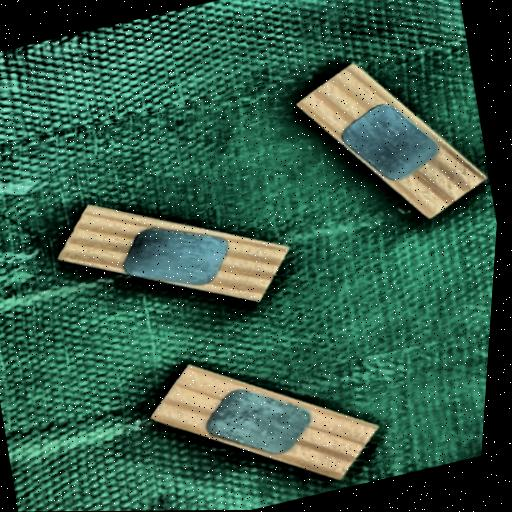objects: (297, 52, 488, 231), (151, 360, 378, 485), (58, 201, 291, 305)
